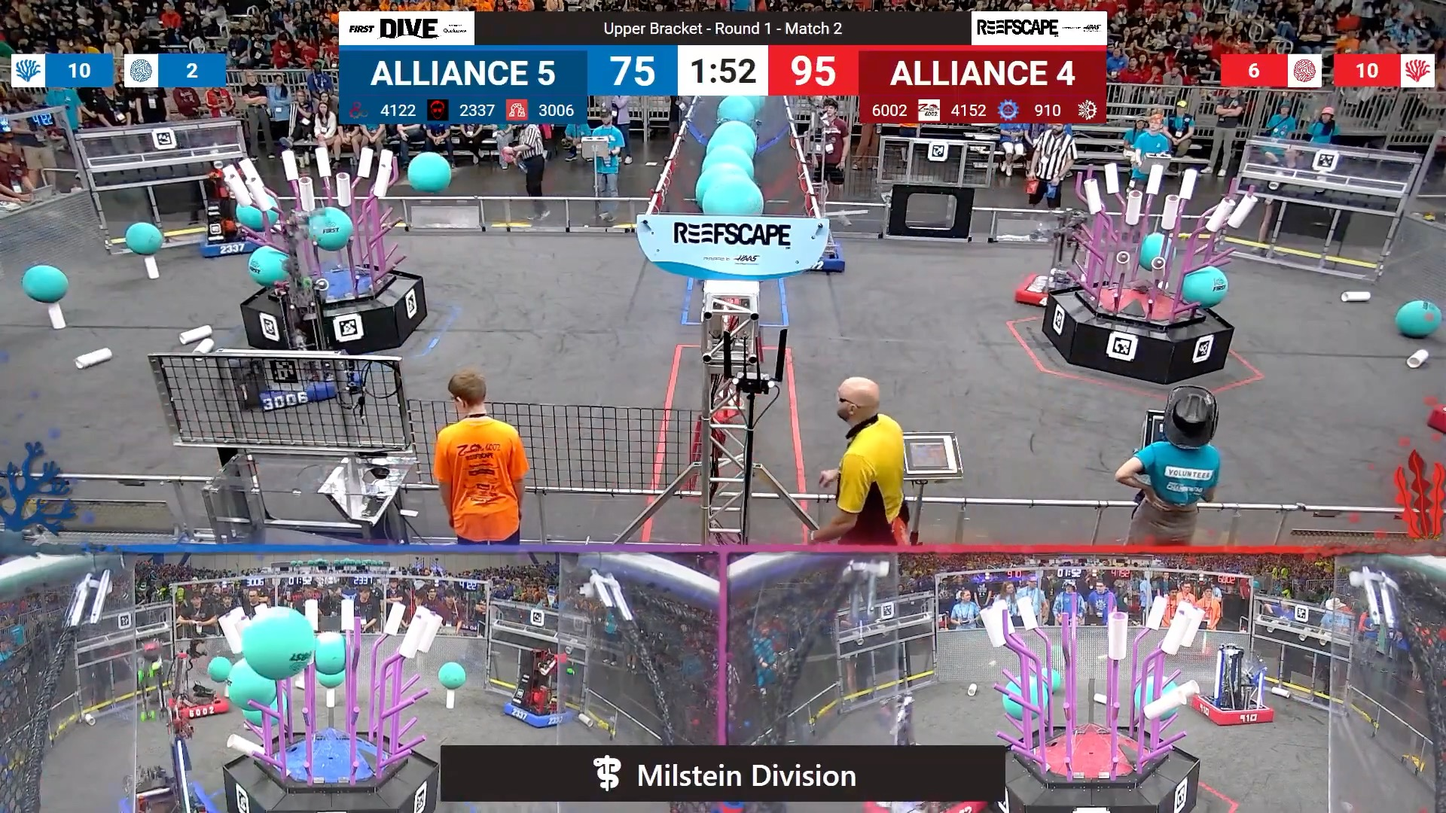bumpers: (249, 355, 365, 414), (117, 770, 219, 812), (1188, 690, 1280, 729), (191, 221, 278, 260), (495, 698, 578, 734), (157, 687, 234, 720), (1011, 269, 1077, 307), (1423, 385, 1445, 450), (802, 251, 852, 276)
